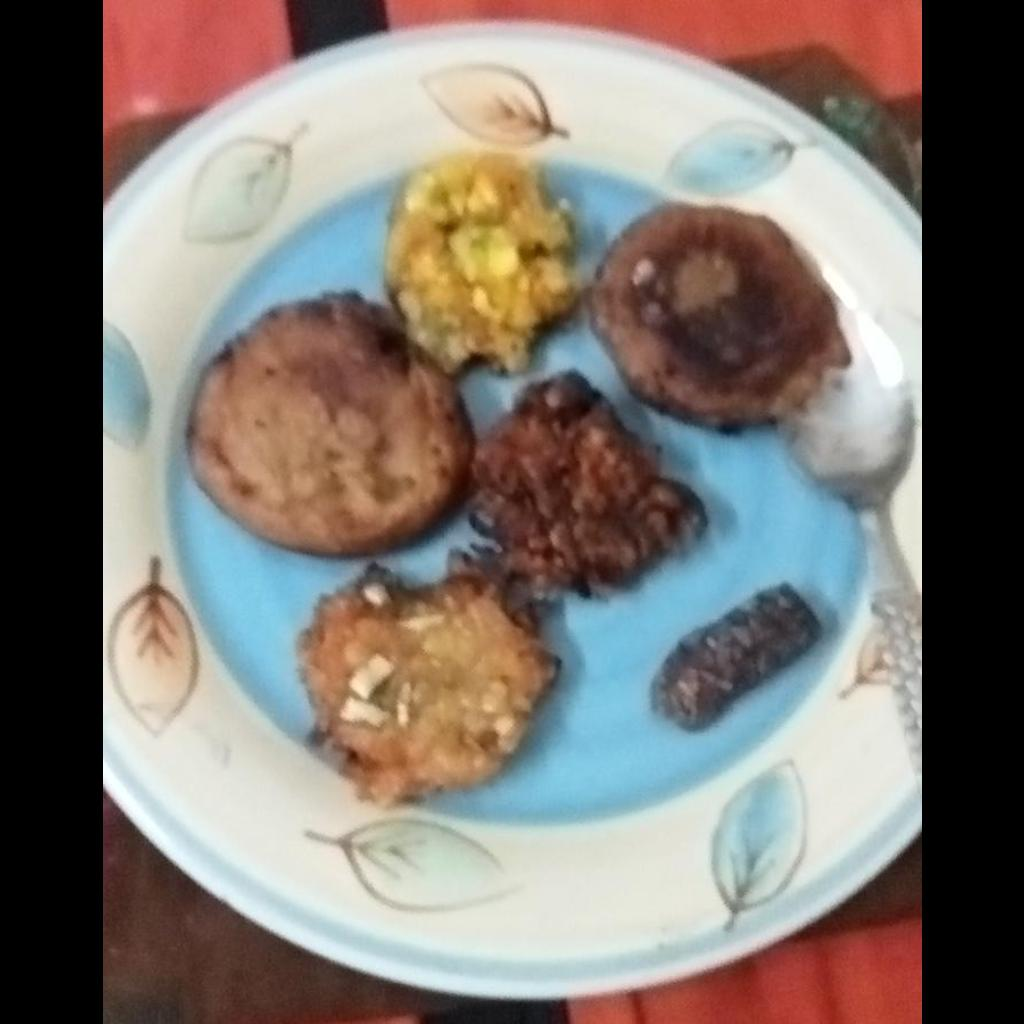chop-alu: (186, 292, 472, 555), (583, 204, 850, 446)
daal: (384, 152, 579, 370)
dates: (651, 580, 829, 729)
peyaju: (305, 574, 558, 791)
piyaju: (473, 372, 704, 594)
